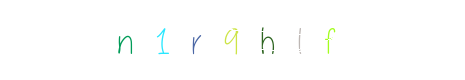1: (122, 0, 202, 80)
9: (191, 0, 271, 80)
F: (231, 0, 311, 80)
H: (192, 0, 272, 80)
L: (226, 0, 306, 80)
N: (84, 0, 164, 80)
R: (153, 0, 233, 80)
